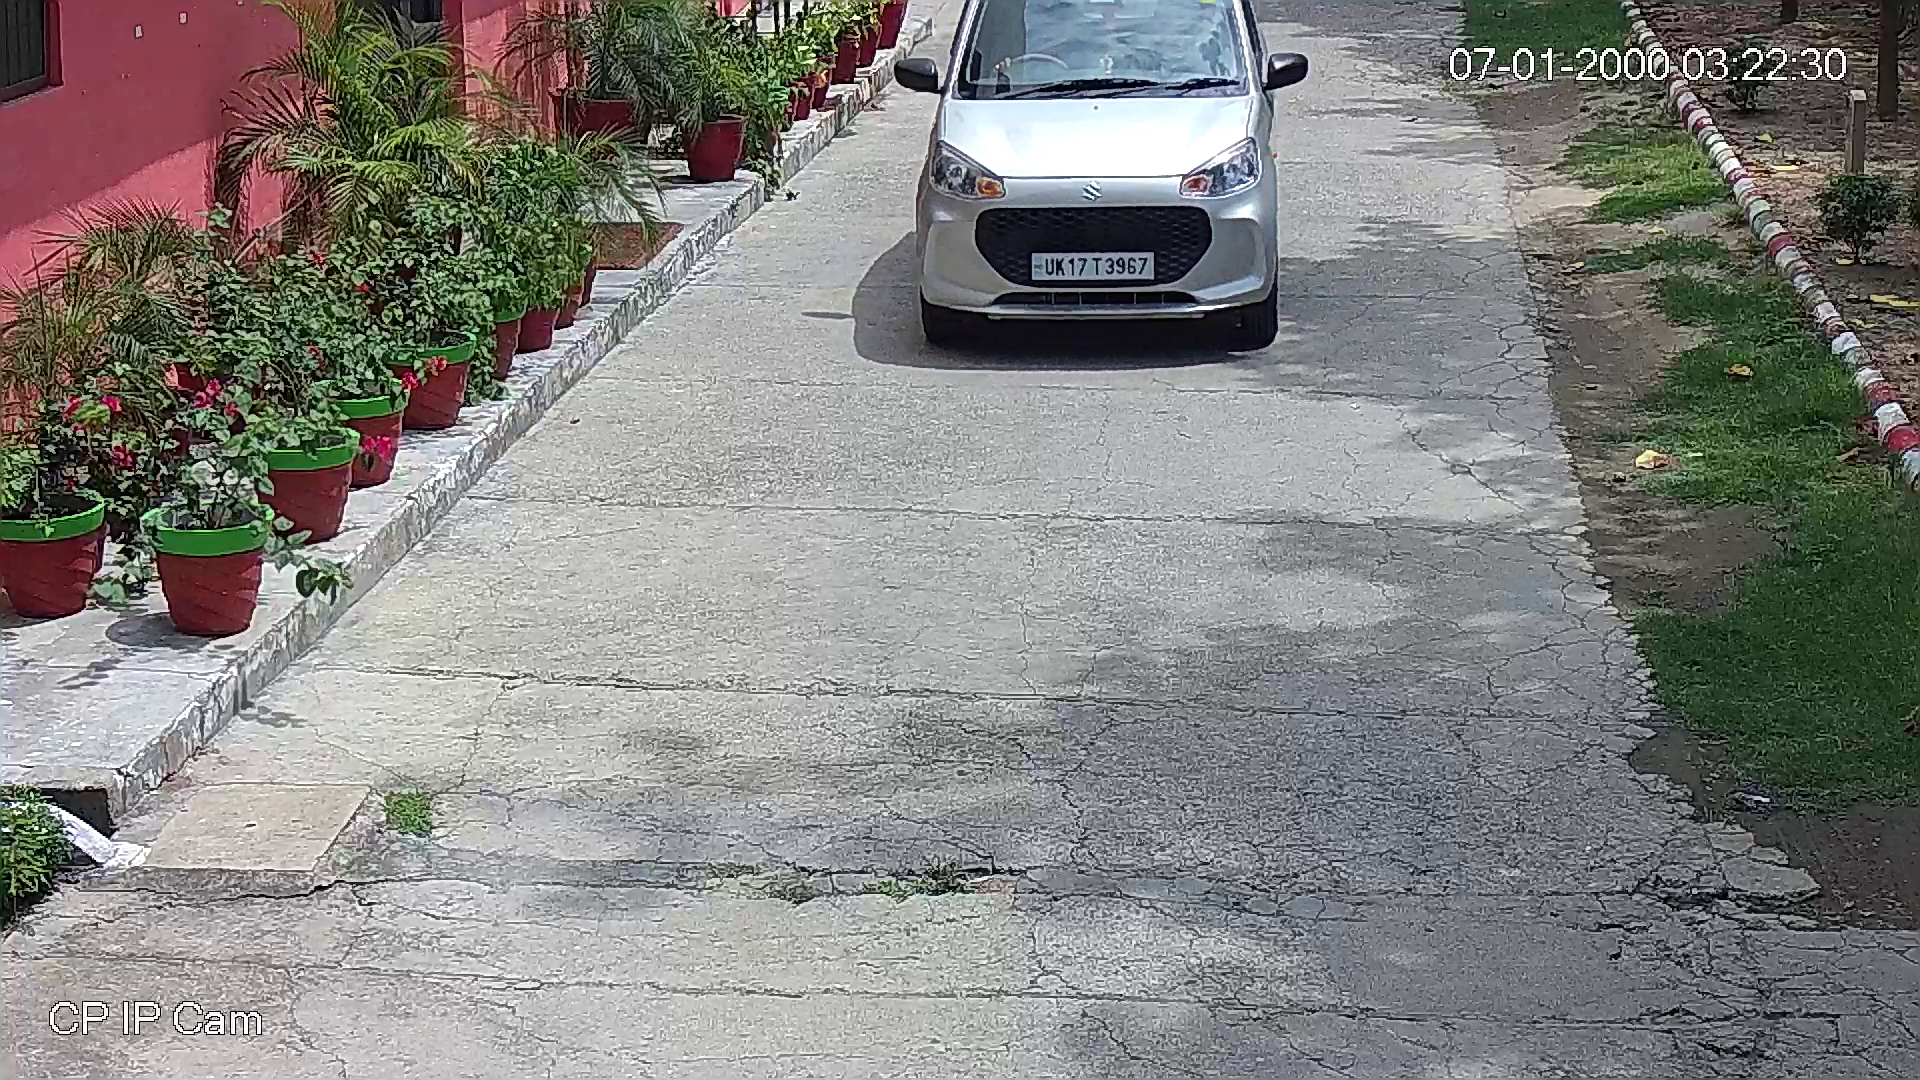plate: (1025, 250, 1156, 281)
